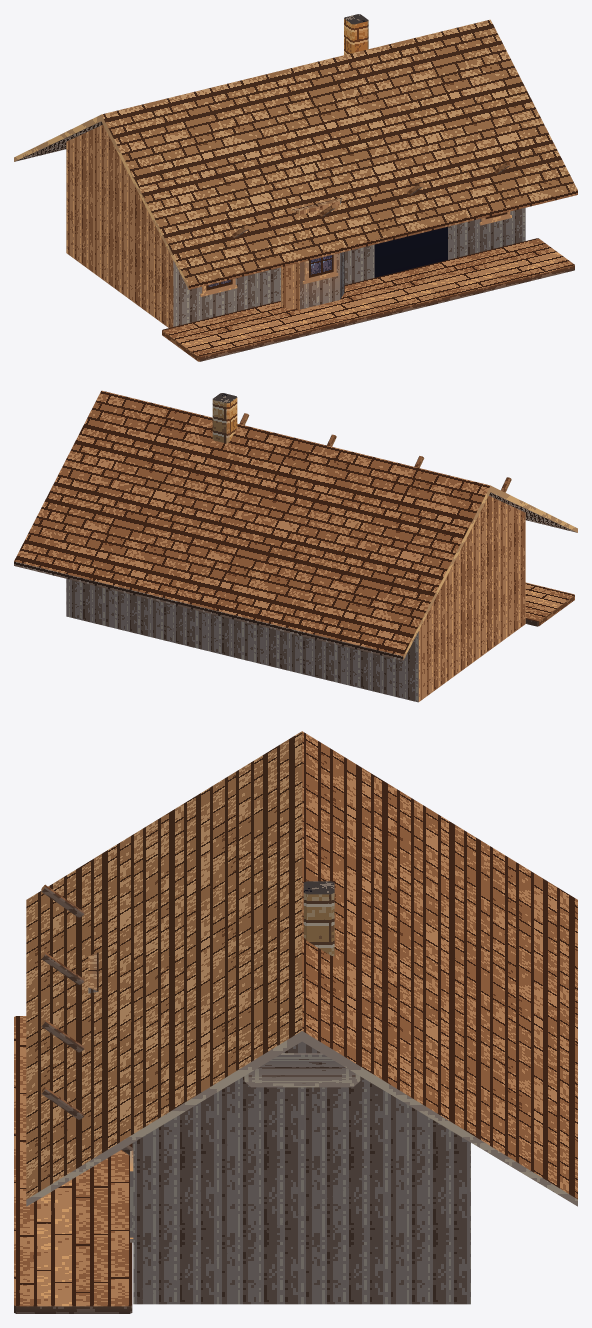
Rendered from wrail.station__entry.glb.
3 renders of one model, top to bottom at view 1: azimuth 30°, elevation 25°; view 2: azimuth 150°, elevation 25°; view 3: azimuth 270°, elevation 25°, orthographic. The views are drawn at different scales.
Visible parts, largest first — view 1: kit_roof, kit_body, kit_deck, kit_card_panes, kit_bay, kit_chimney, kit_windows; view 2: kit_roof, kit_body, kit_deck, kit_chimney; view 3: kit_roof, kit_body, kit_deck, kit_card_panes, kit_chimney, kit_braces, kit_trim.
Boxes of the visible parts, box(x1,y1,x2,y2) form: kit_roof: box(14, 19, 577, 289); kit_body: box(66, 125, 525, 327); kit_deck: box(162, 238, 574, 361); kit_card_panes: box(206, 212, 507, 290); kit_bay: box(281, 197, 344, 309); kit_chimney: box(344, 14, 368, 54); kit_windows: box(200, 211, 511, 296); kit_roof: box(14, 390, 577, 660); kit_body: box(66, 496, 525, 702); kit_deck: box(525, 582, 574, 626); kit_chimney: box(212, 393, 237, 443); kit_roof: box(26, 731, 577, 1206); kit_body: box(133, 1041, 470, 1304); kit_deck: box(14, 1016, 132, 1313); kit_card_panes: box(248, 1059, 355, 1083); kit_chimney: box(303, 881, 334, 956); kit_braces: box(41, 884, 133, 1155); kit_trim: box(244, 1053, 360, 1087).
Size of the model in its own units: 12.6 by 6.5 by 10.02.
Materials: 10 (10 with a texture image).
